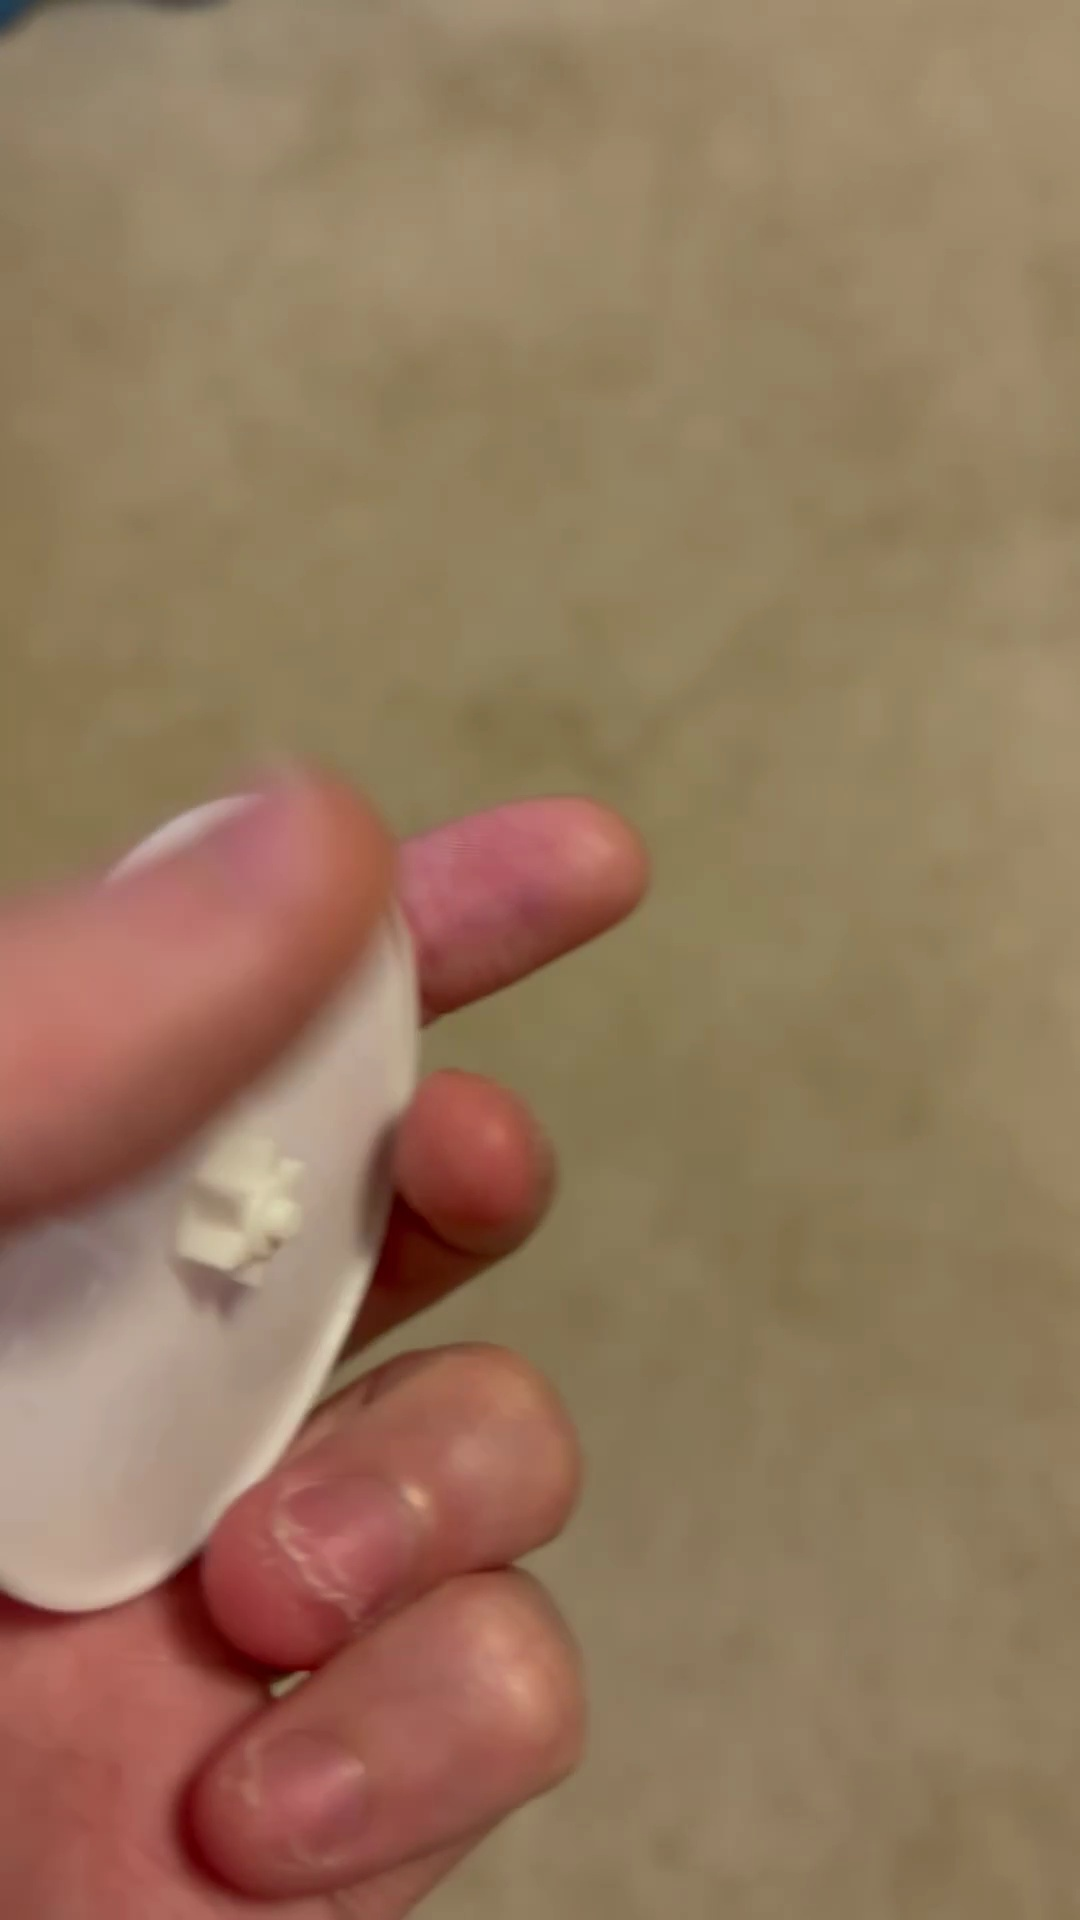Part1: (0, 796, 418, 1611)
